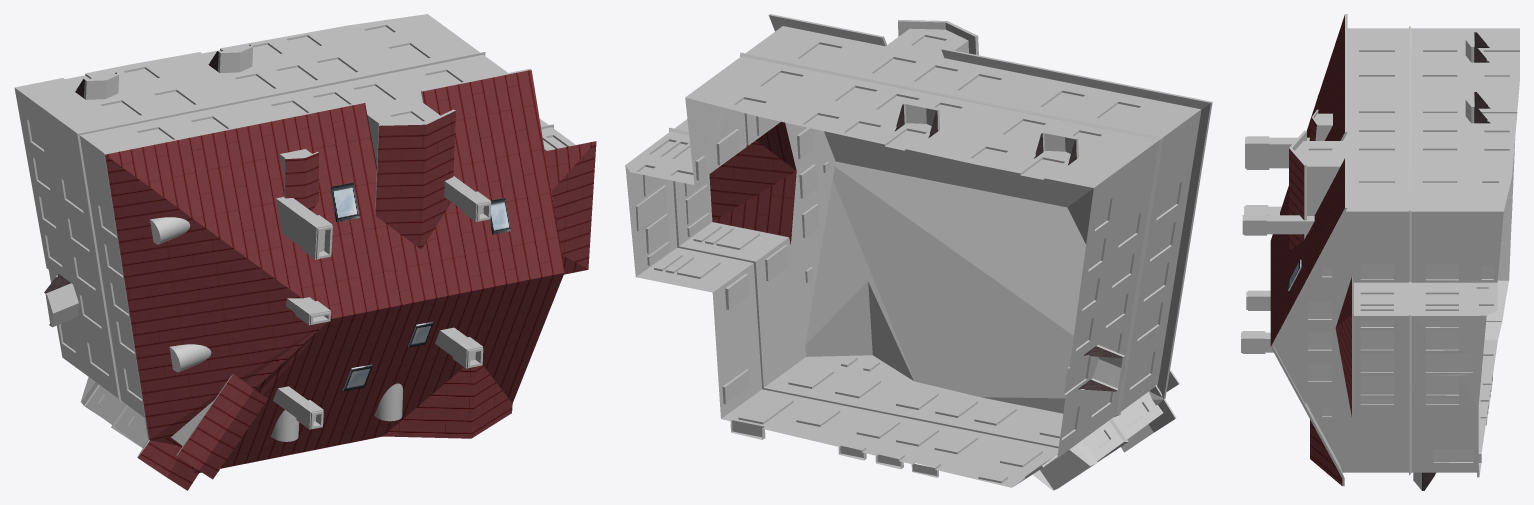
File: Falgi_tee_6.obj
The picture shows the model from 3 angles, left to right: view 1: azimuth 30°, elevation 25°; view 2: azimuth 150°, elevation 25°; view 3: azimuth 270°, elevation 25°; orthographic projection. The views are drawn at different scales.
Parts seen in each view (by area): view 1: Falgi_tee_6; view 2: Falgi_tee_6; view 3: Falgi_tee_6.
Boxes of the visible parts, x1,y1,x2,y2 form: Falgi_tee_6: [14, 14, 596, 490]; Falgi_tee_6: [625, 14, 1212, 490]; Falgi_tee_6: [1241, 14, 1519, 490].
Size of the model in its own units: 28.25 by 20.38 by 16.16.
